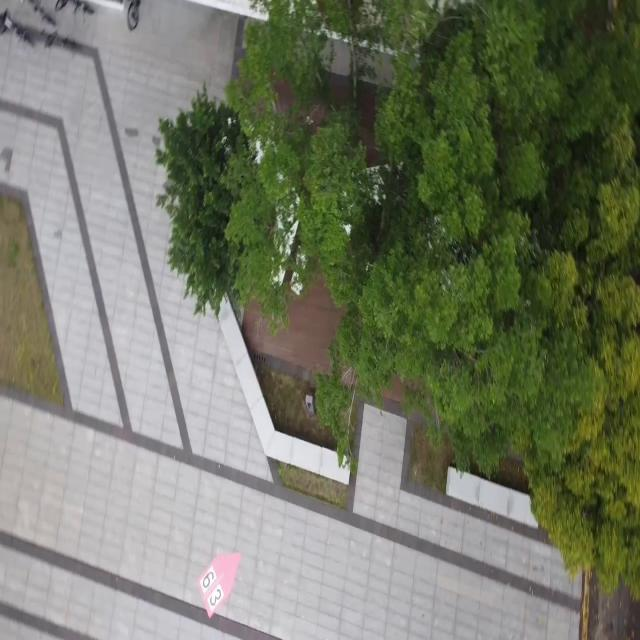-sign-: (197, 550, 241, 620)
